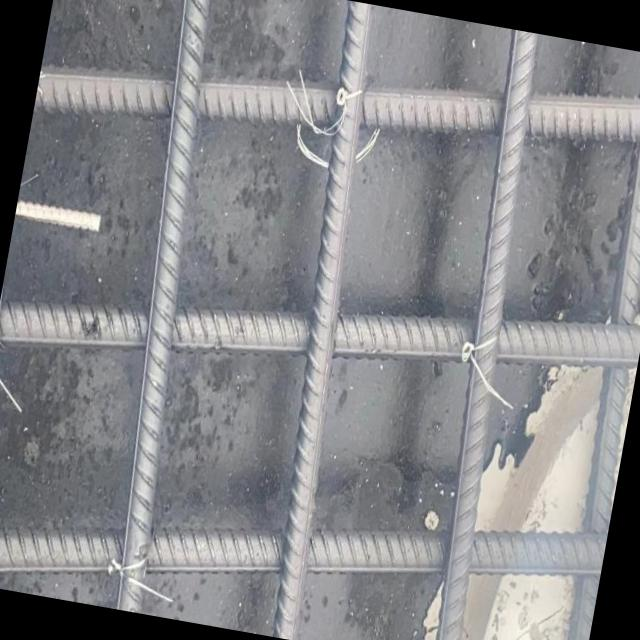ribbed bar: (0, 212, 640, 453), (32, 0, 640, 225), (0, 424, 607, 640), (234, 1, 407, 640), (74, 0, 252, 612), (399, 30, 567, 640), (533, 53, 640, 640)
